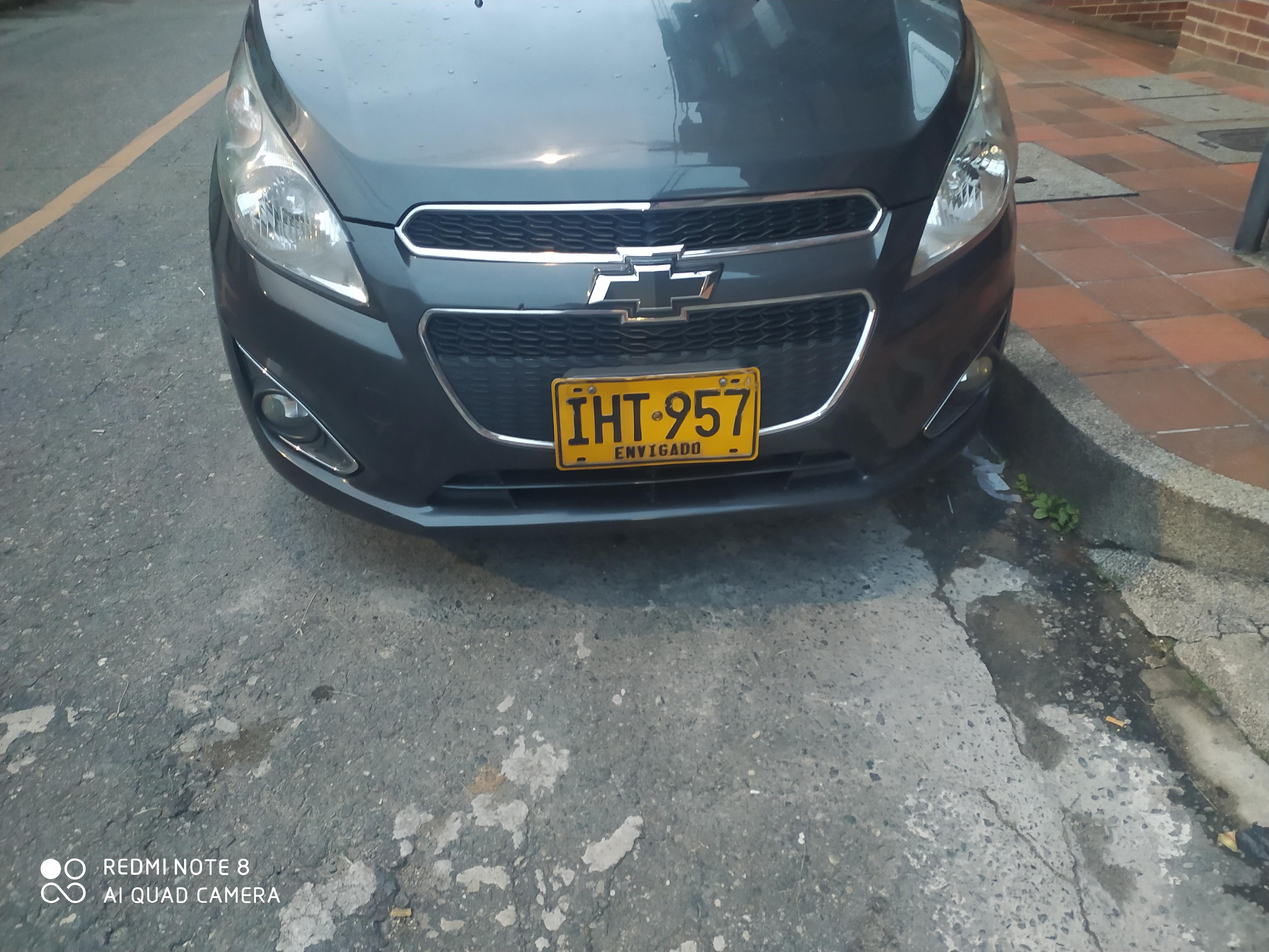placa: (541, 361, 771, 474)
